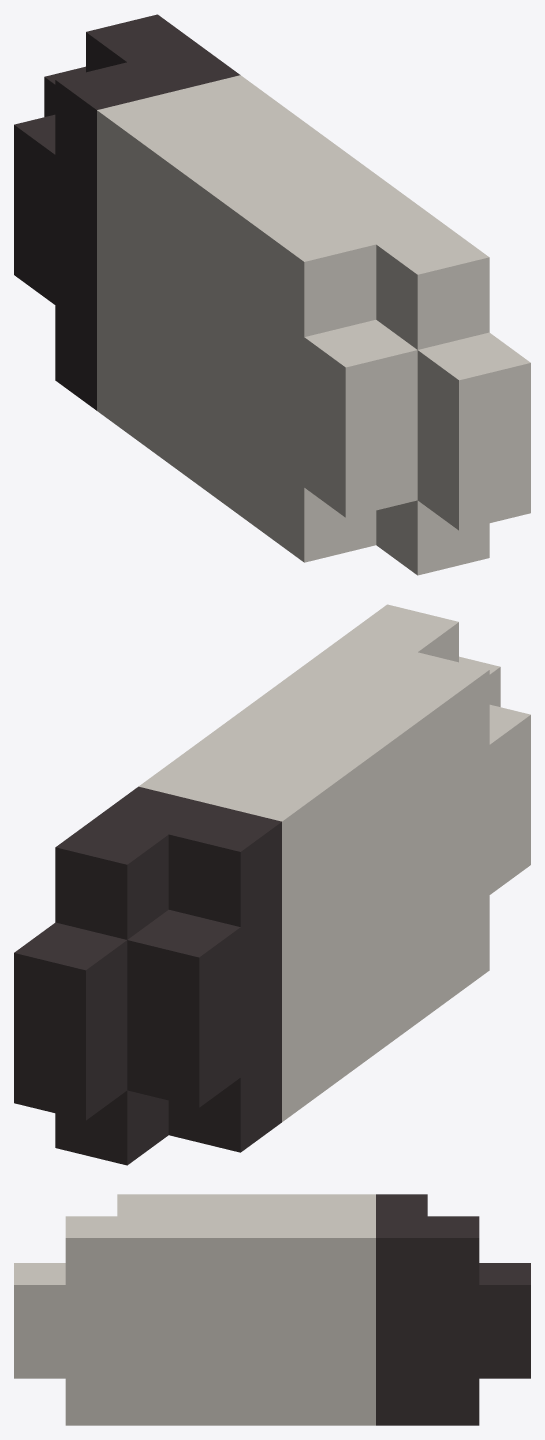
Rendered from seagull__wing_l.glb.
3 renders of one model, top to bottom at view 1: azimuth 30°, elevation 25°; view 2: azimuth 150°, elevation 25°; view 3: azimuth 270°, elevation 25°, orthographic. The views are drawn at different scales.
Parts seen in each view (by area): view 1: seagull__wing_l; view 2: seagull__wing_l; view 3: seagull__wing_l.
Part boxes in pixels (<box>): seagull__wing_l: <box>14,14,530,575</box>; seagull__wing_l: <box>14,604,530,1165</box>; seagull__wing_l: <box>14,1194,530,1425</box>.
Size of the model in its own units: 0.2 by 0.4 by 1.
1 material, 1 textured.
